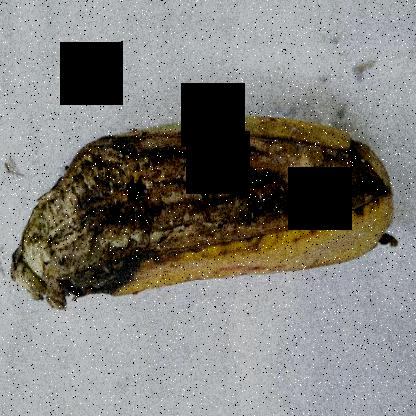rotten: (6, 100, 392, 316)
